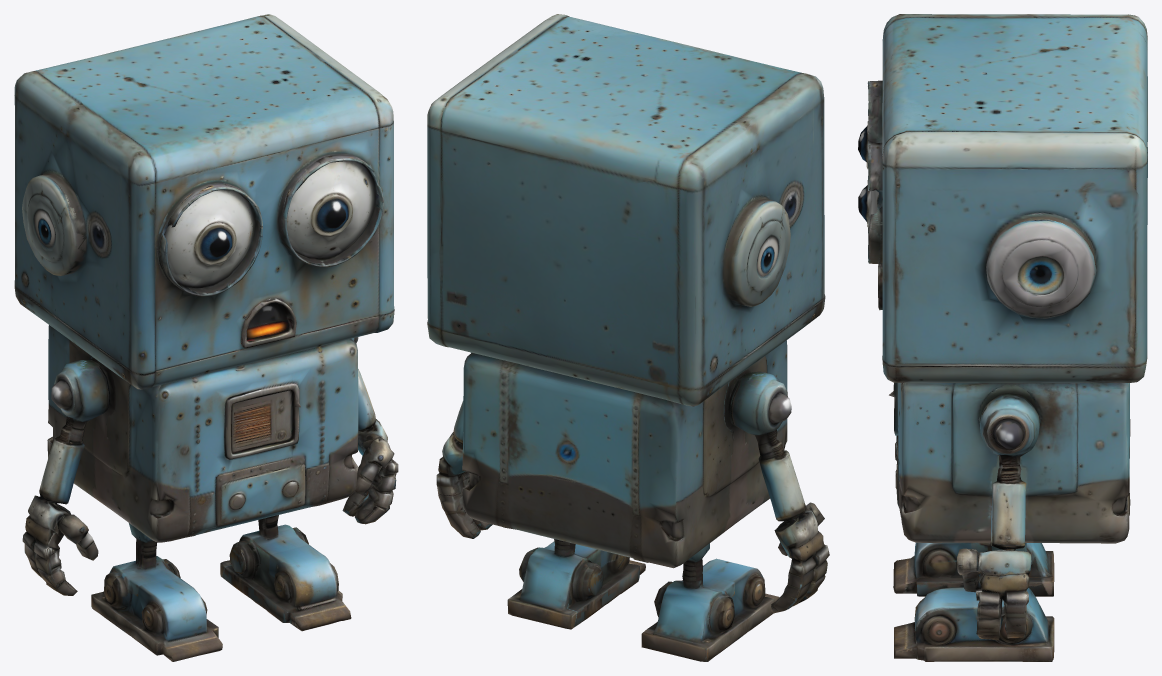
File: robot.glb
3 renders of one model, left to right at view 1: azimuth 30°, elevation 25°; view 2: azimuth 150°, elevation 25°; view 3: azimuth 270°, elevation 25°, orthographic. The views are drawn at different scales.
Size of the model in its own units: 1.44 by 2 by 0.9745.
1 material, 1 textured.
